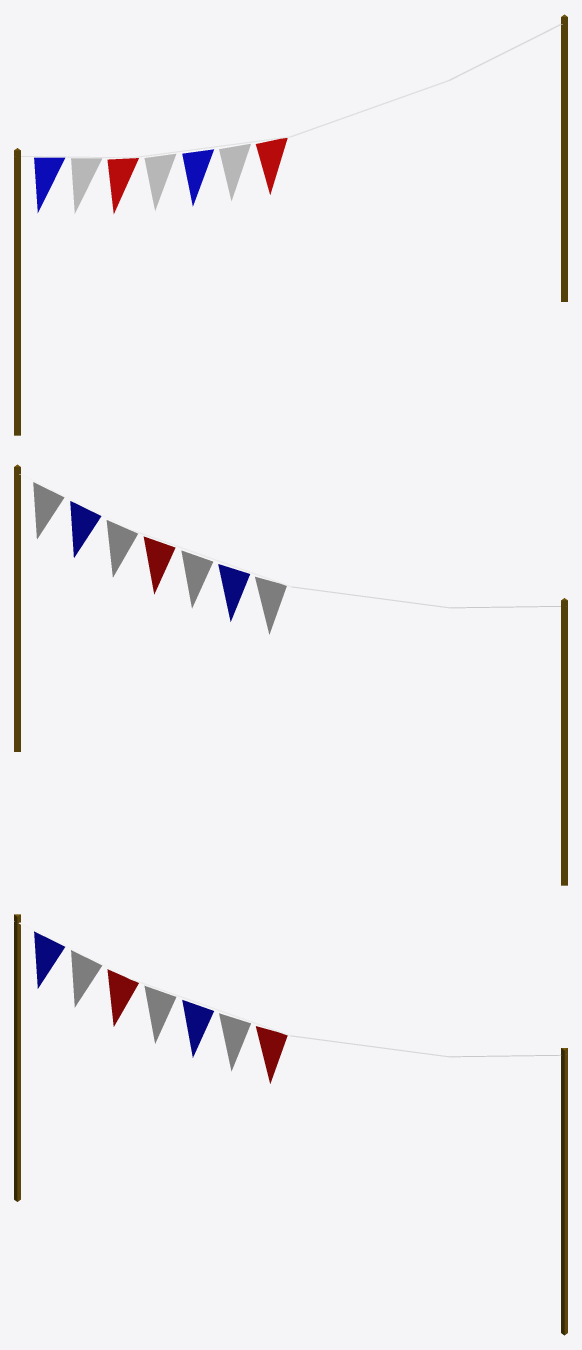
File: Wimpel_2Ständer_1870.glb
3 renders of one model, top to bottom at view 1: azimuth 30°, elevation 25°; view 2: azimuth 150°, elevation 25°; view 3: azimuth 330°, elevation 25°, orthographic.
Parts seen in each view (by area): view 1: pCylinderShape2, pCylinderShape1, pCylinderShape3, pCylinderShape4, pCylinderShape8, pCylinderShape7, pCylinderShape6, pCylinderShape9, pCylinderShape10, pCylinderShape5; view 2: pCylinderShape2, pCylinderShape1, pCylinderShape3, pCylinderShape17, pCylinderShape12, pCylinderShape14, pCylinderShape16, pCylinderShape15, pCylinderShape13, pCylinderShape11; view 3: pCylinderShape2, pCylinderShape1, pCylinderShape3, pCylinderShape5, pCylinderShape9, pCylinderShape10, pCylinderShape7, pCylinderShape8, pCylinderShape6, pCylinderShape4.
Part boxes in pixels (box(x1,y1,x2,y2)): pCylinderShape2: box(14, 148, 20, 435); pCylinderShape1: box(561, 14, 567, 301); pCylinderShape3: box(21, 23, 562, 158); pCylinderShape4: box(34, 157, 64, 212); pCylinderShape8: box(182, 149, 213, 206); pCylinderShape7: box(144, 153, 176, 210); pCylinderShape6: box(107, 158, 138, 213); pCylinderShape9: box(219, 143, 250, 200); pCylinderShape10: box(255, 138, 287, 194); pCylinderShape5: box(71, 158, 102, 213); pCylinderShape2: box(561, 598, 567, 885); pCylinderShape1: box(14, 464, 20, 751); pCylinderShape3: box(19, 473, 560, 608); pCylinderShape17: box(255, 576, 286, 634); pCylinderShape12: box(70, 501, 101, 557); pCylinderShape14: box(143, 536, 175, 594); pCylinderShape16: box(218, 564, 249, 621); pCylinderShape15: box(181, 550, 212, 608); pCylinderShape13: box(106, 520, 137, 576); pCylinderShape11: box(33, 482, 64, 538); pCylinderShape2: box(14, 914, 20, 1201); pCylinderShape1: box(561, 1048, 567, 1335); pCylinderShape3: box(14, 921, 561, 1057); pCylinderShape5: box(71, 950, 102, 1007); pCylinderShape9: box(219, 1013, 250, 1071); pCylinderShape10: box(256, 1026, 287, 1083); pCylinderShape7: box(144, 985, 176, 1043); pCylinderShape8: box(182, 1000, 213, 1057); pCylinderShape6: box(107, 969, 138, 1026); pCylinderShape4: box(34, 931, 64, 988).
Size of the model in its own units: 1.01 by 0.4981 by 0.011.
